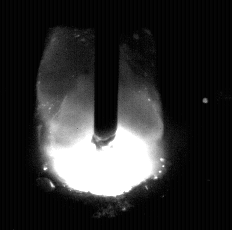arame: (95, 0, 119, 149)
poca: (37, 0, 163, 230)
